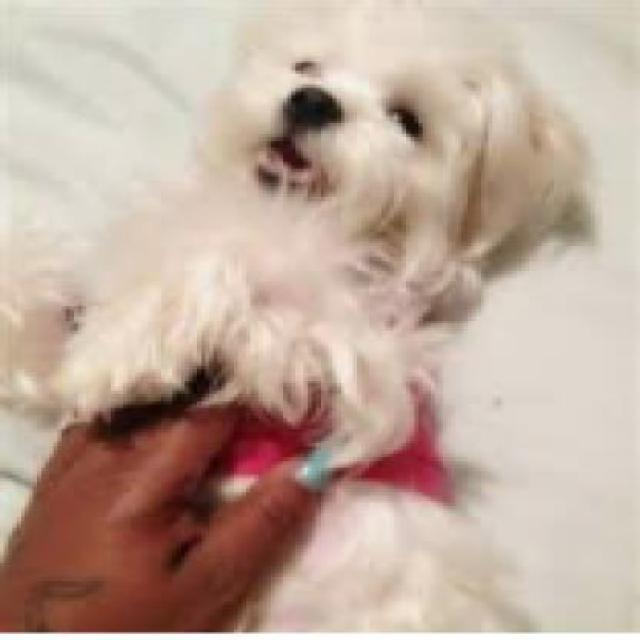Dog: (2, 3, 604, 626)
